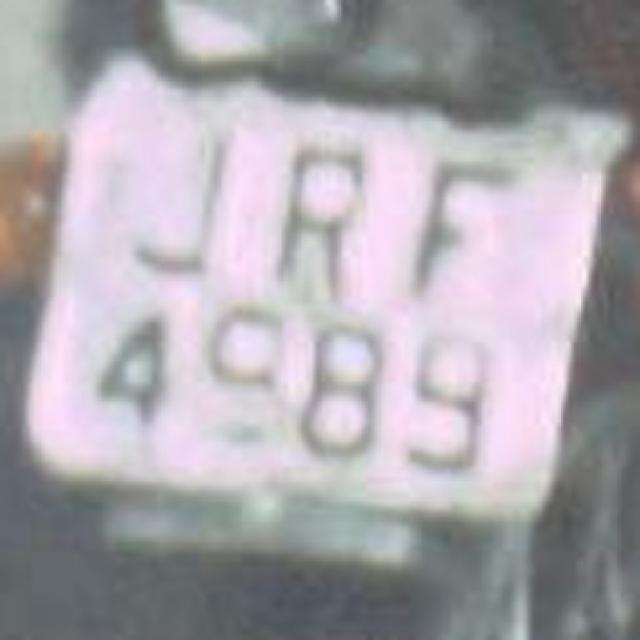4: (56, 272, 196, 452)
8: (276, 288, 404, 484)
9: (380, 300, 515, 495), (171, 272, 304, 448)
B: (264, 284, 416, 476)
J: (108, 100, 252, 288)
P: (392, 131, 536, 324), (68, 284, 200, 456)
R: (236, 108, 409, 308)
